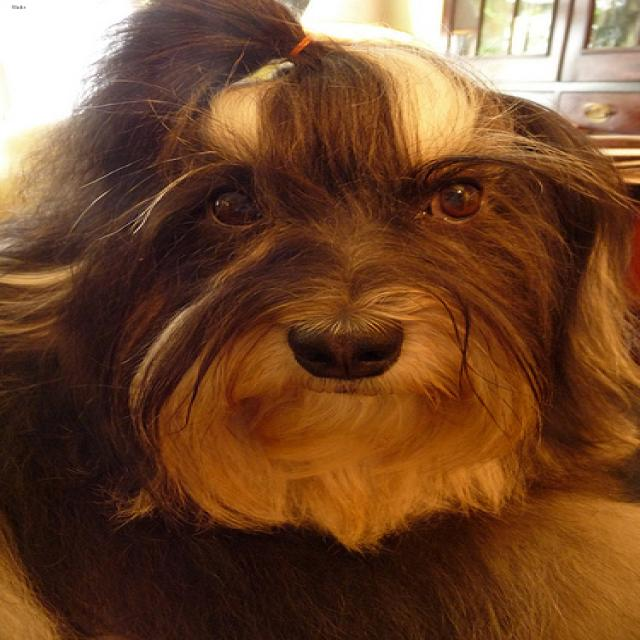dog-havanese: (2, 1, 637, 637)
